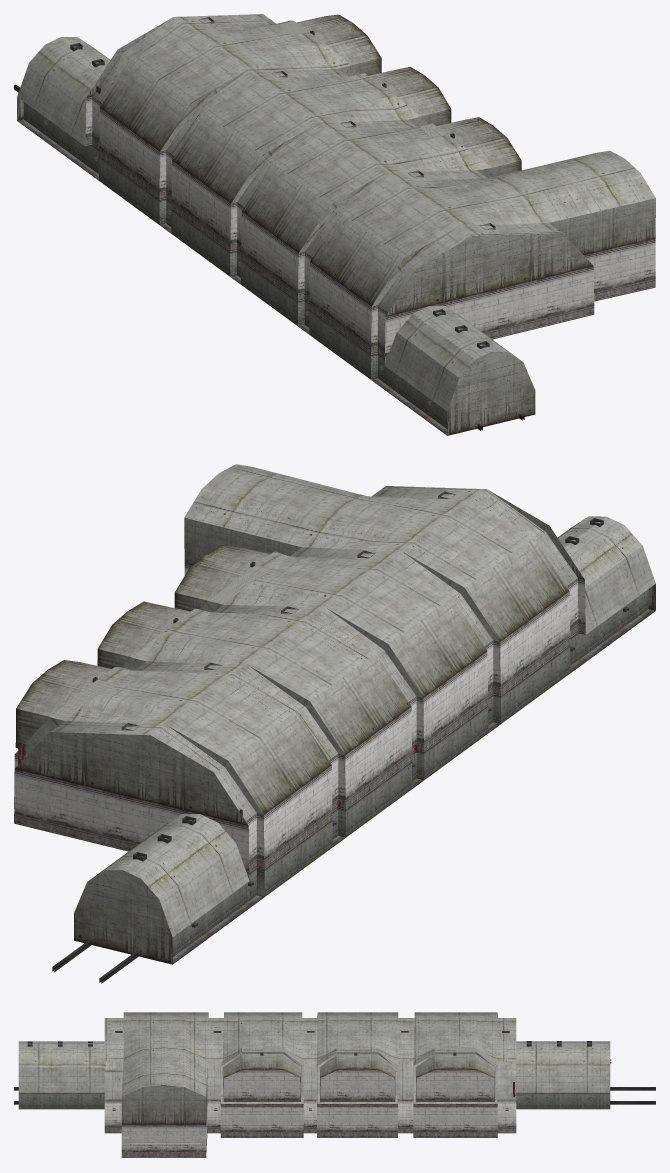
Rendered from Subway Station.FBX.
The picture shows the model from 3 angles, top to bottom: view 1: azimuth 30°, elevation 25°; view 2: azimuth 150°, elevation 25°; view 3: azimuth 270°, elevation 25°; orthographic projection. The views are drawn at different scales.
Parts seen in each view (by area): view 1: Floor, Box02; view 2: Floor, Box02; view 3: Floor, Object02, Box02.
Boxes of the visible parts, x1,y1,x2,y2 form: Floor: (17,14,655,435); Box02: (44,30,489,405); Floor: (14,464,655,964); Box02: (92,518,628,927); Floor: (18,1012,610,1157); Object02: (14,1087,655,1104); Box02: (27,1041,591,1110).
Bounding box in the file's own units: 1465 × 656 × 4164.
26 materials, 26 textured.
